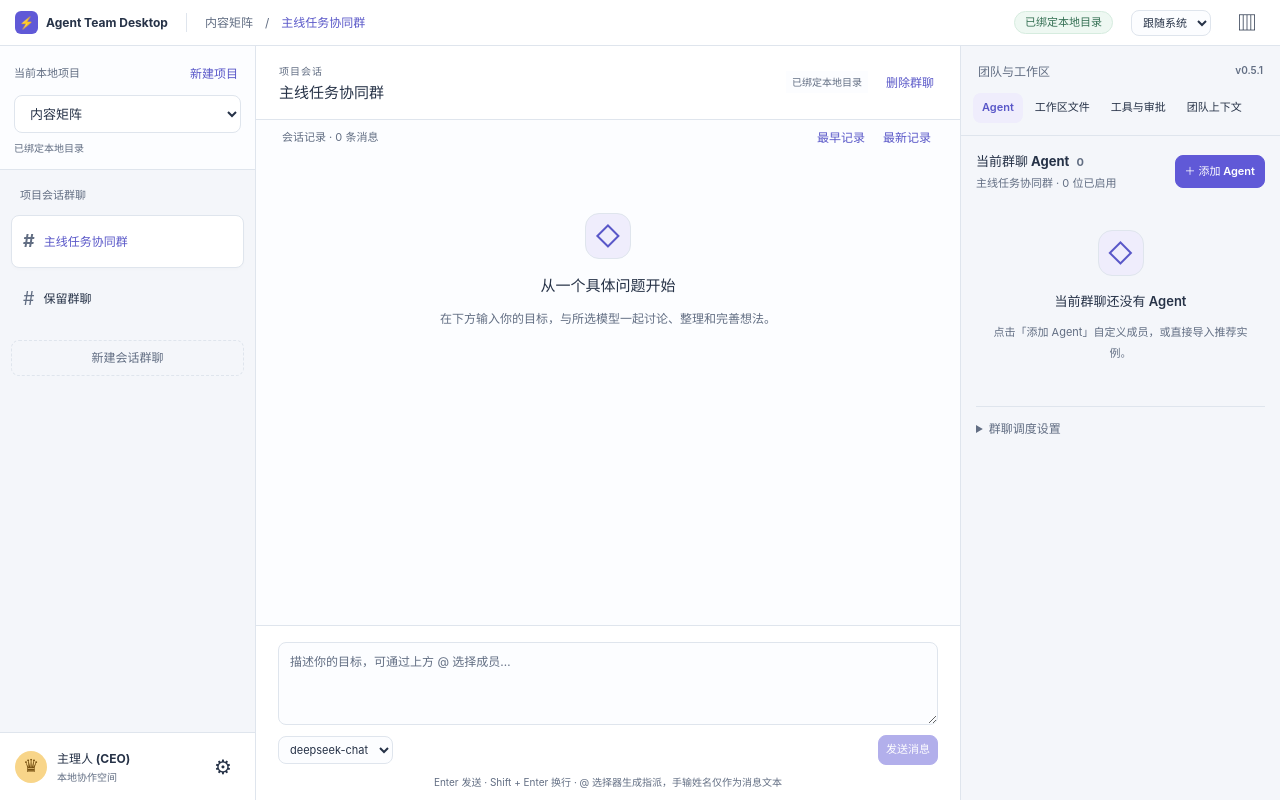
Scenario: keeps confirmed deletion and refreshes the fallback channel
Check: the heading "主线任务协同群" is shown, box [279,81,384,105]
Check: the text box named "消息内容" is enabled, box [278,642,938,725]
Click the button with aria-label "删除当前群聊". click: (910, 82)
box: [883,71,937,94]
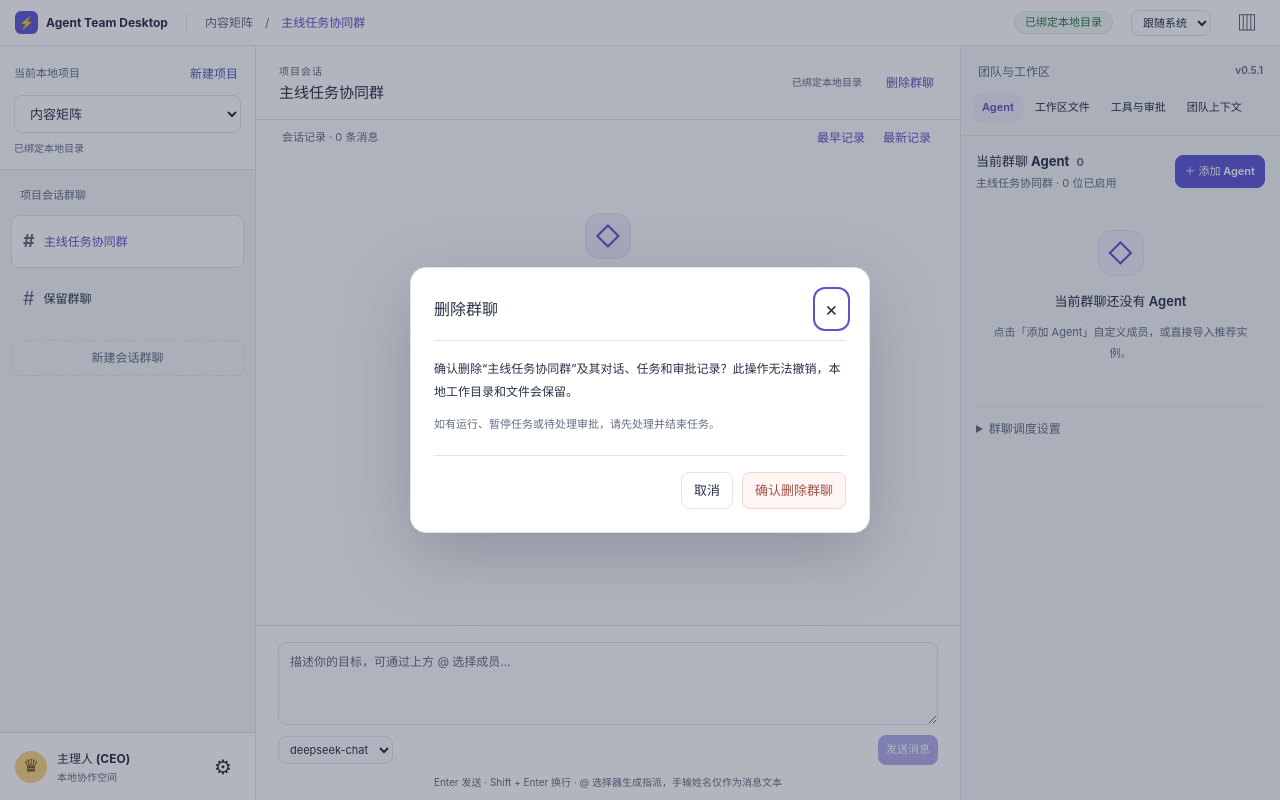
Click the button "确认删除群聊". click: (794, 490)
box: [742,472,846,509]
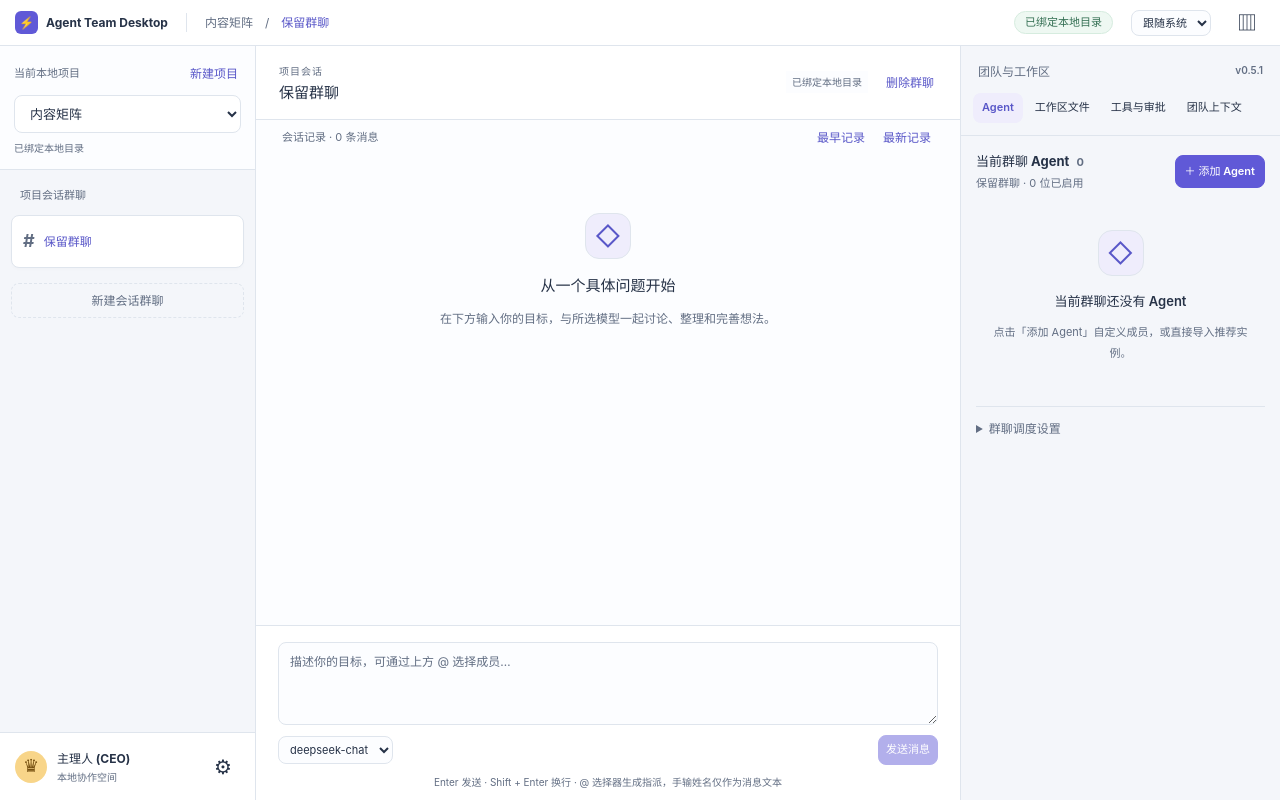
Check: the heading "保留群聊" is shown, box [279,81,339,105]
